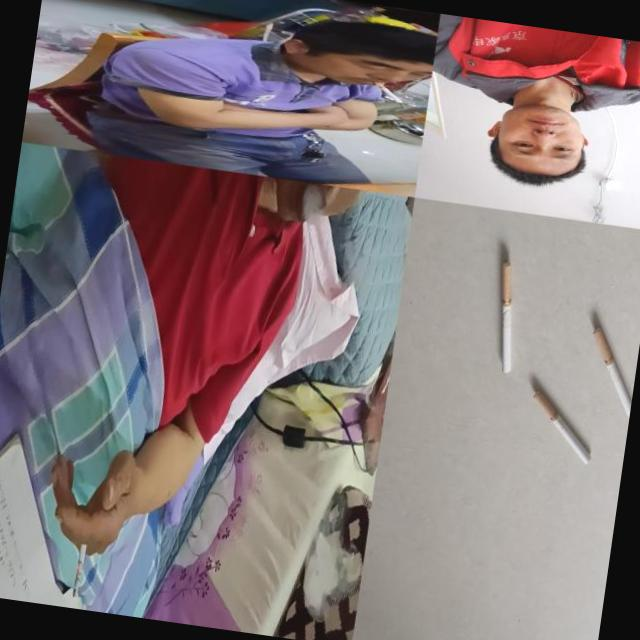smoke: (525, 388, 600, 466), (581, 325, 640, 420), (486, 260, 526, 374), (72, 528, 90, 598), (372, 82, 407, 104)
